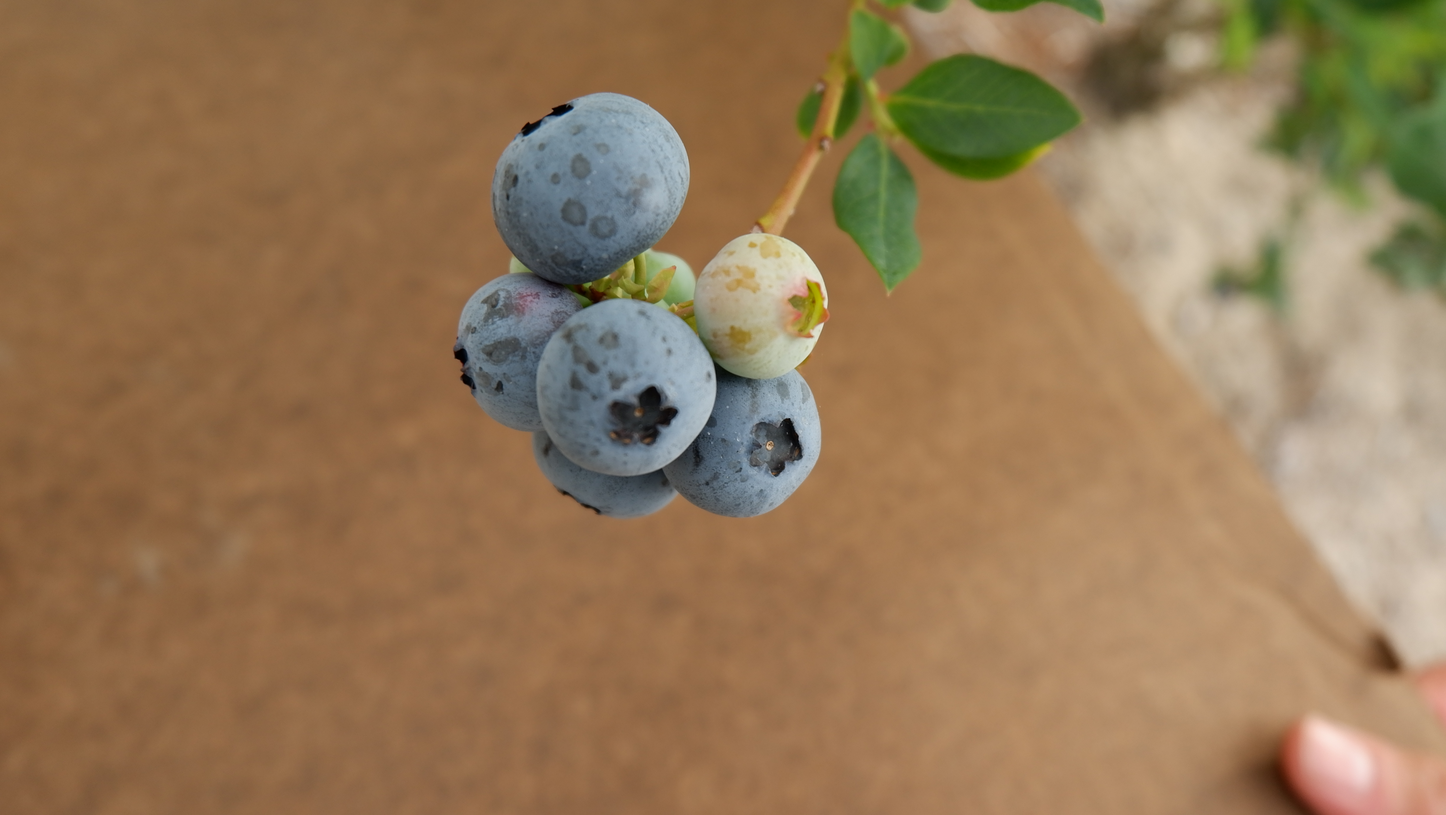Immature: (695, 233, 829, 380), (623, 247, 695, 307)
Mature: (491, 92, 692, 289), (537, 298, 715, 475), (659, 359, 823, 521), (453, 272, 586, 434), (530, 429, 679, 521)
